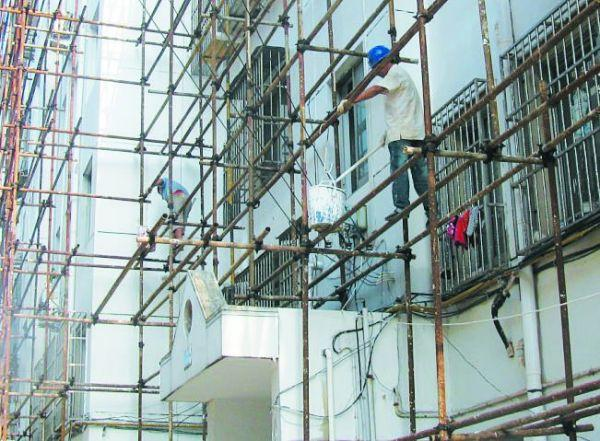helmet: (370, 47, 394, 70)
